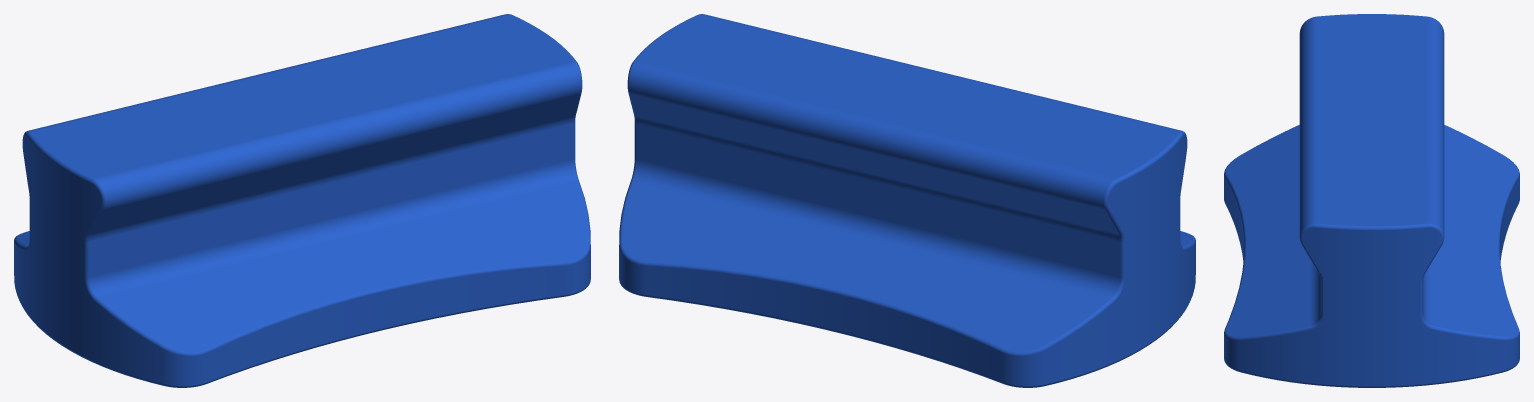
File: sponge_grip.glb
The picture shows the model from 3 angles, left to right: view 1: azimuth 30°, elevation 25°; view 2: azimuth 150°, elevation 25°; view 3: azimuth 270°, elevation 25°; orthographic projection. The views are drawn at different scales.
Bounding box in the file's own units: 0.114 × 0.04 × 0.0664.
